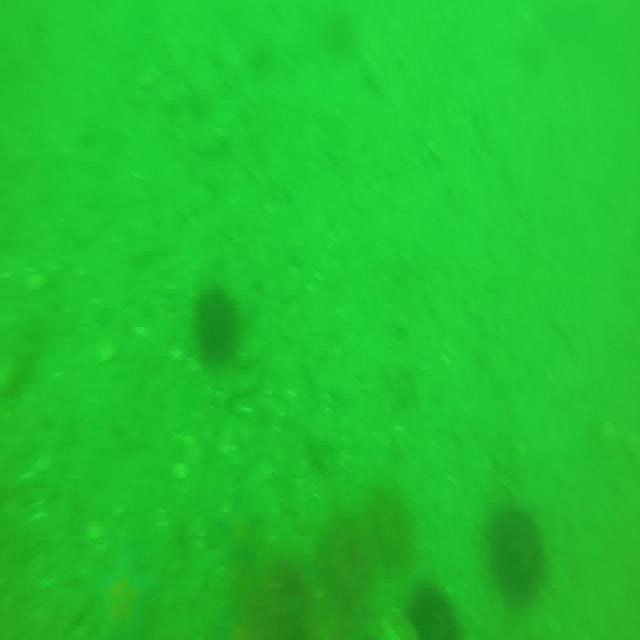echinus: (307, 507, 371, 605), (240, 557, 307, 640), (498, 506, 546, 608), (189, 284, 241, 362), (372, 484, 413, 558), (408, 583, 459, 640), (319, 7, 352, 59)
starfish: (96, 556, 157, 640), (220, 500, 266, 567)
